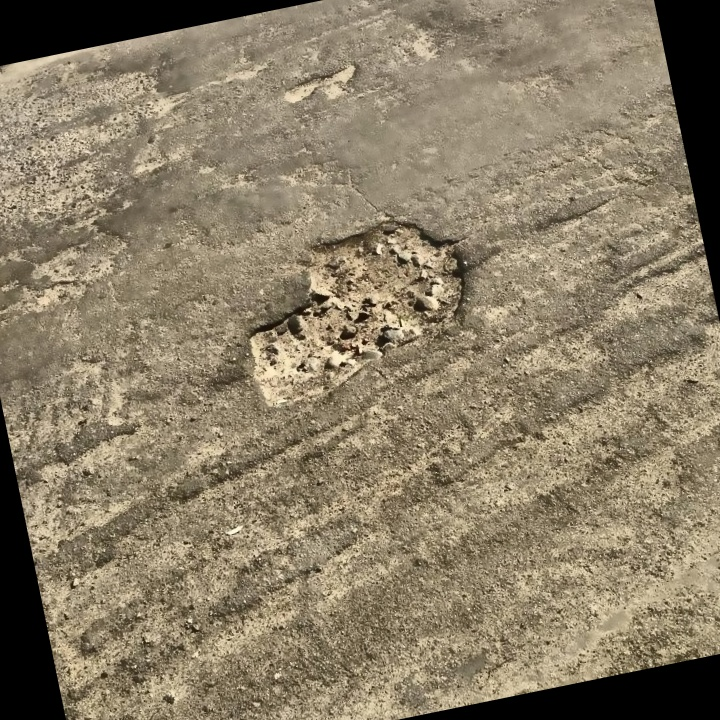pothole: (218, 196, 485, 412), (277, 60, 367, 106)
